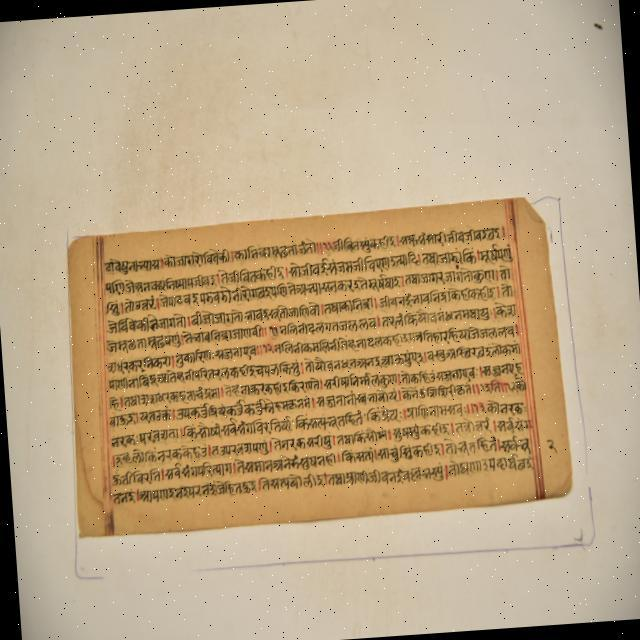text_paragraph: (68, 201, 570, 534)
